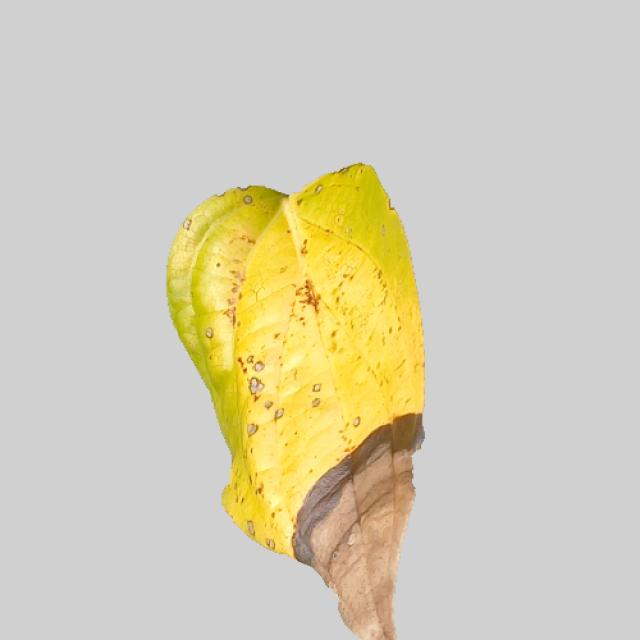leaf-blight: (156, 172, 428, 638)
